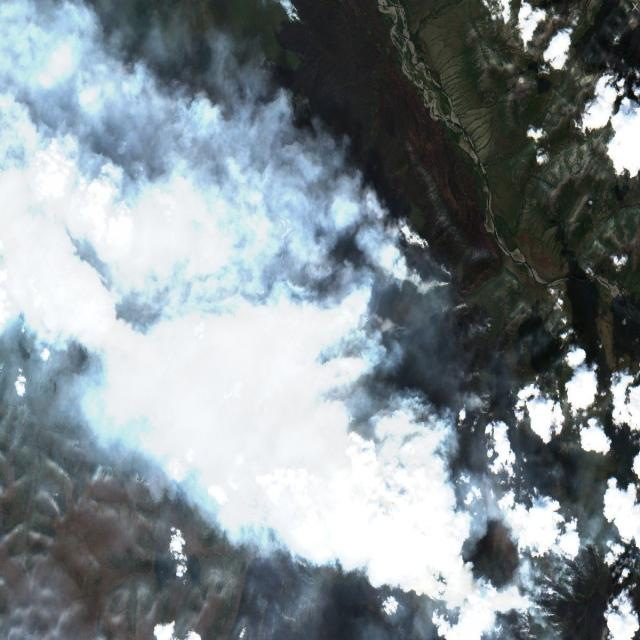fire: (0, 15, 568, 640)
